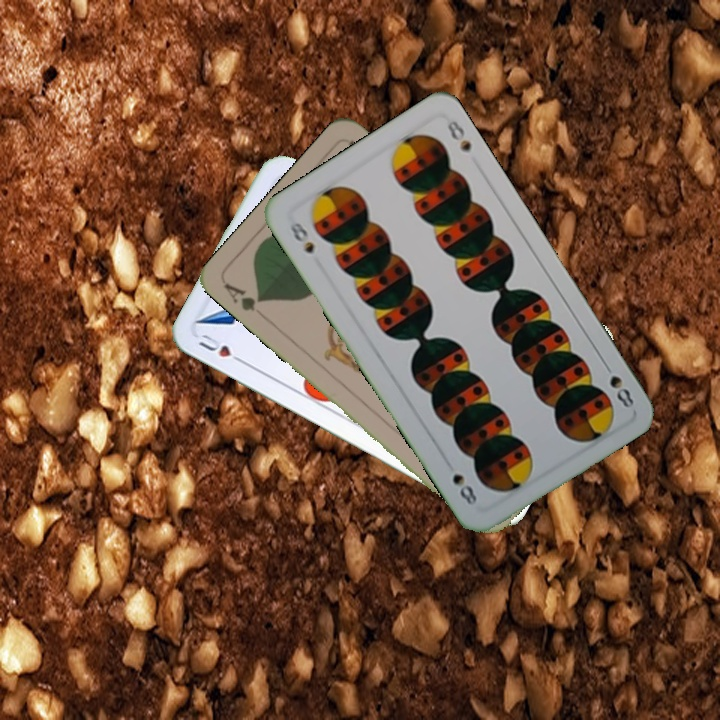GA: (219, 278, 267, 314)
HU: (194, 329, 248, 368)
S8: (598, 357, 638, 411), (285, 218, 317, 257)
